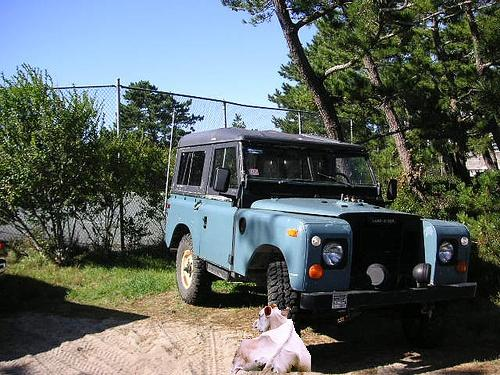tampered: (223, 304, 311, 374)
